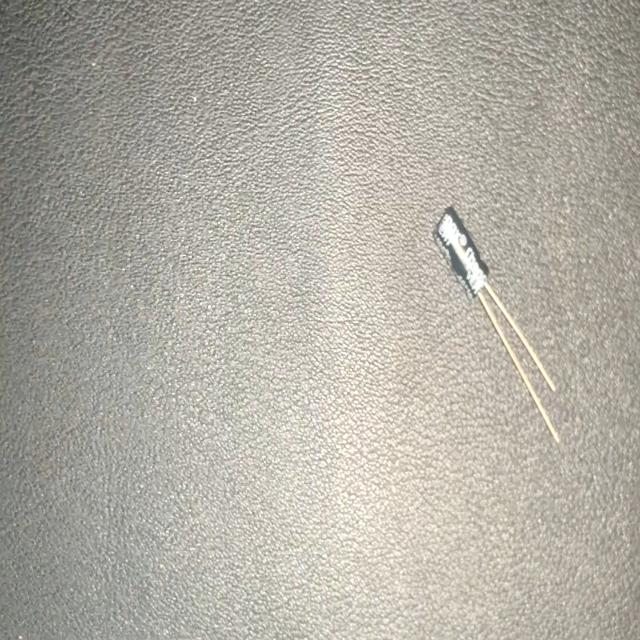capacitor: (431, 199, 562, 454)
